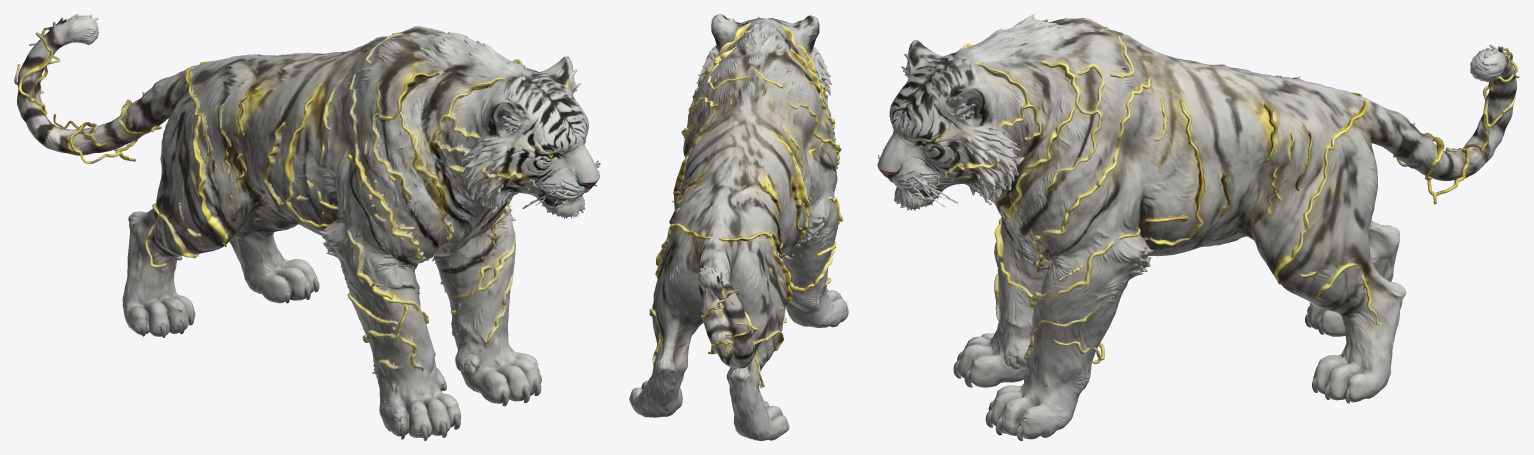
File: fulgar.glb
3 views of the same model, side by side, from view 1: azimuth 30°, elevation 25°; view 2: azimuth 150°, elevation 25°; view 3: azimuth 270°, elevation 25° (orthographic). The views are drawn at different scales.
Parts seen in each view (by area): view 1: tripo_node_02cd93fa-fcd7-498a-8c53-8ca164255a4e; view 2: tripo_node_02cd93fa-fcd7-498a-8c53-8ca164255a4e; view 3: tripo_node_02cd93fa-fcd7-498a-8c53-8ca164255a4e.
Part boxes in pixels (box(x1,y1,x2,y2)): tripo_node_02cd93fa-fcd7-498a-8c53-8ca164255a4e: box(14, 14, 600, 440); tripo_node_02cd93fa-fcd7-498a-8c53-8ca164255a4e: box(629, 14, 848, 440); tripo_node_02cd93fa-fcd7-498a-8c53-8ca164255a4e: box(877, 14, 1519, 440).
Bounding box in the file's own units: 0.576 × 0.638 × 0.9805.
1 material, 1 textured.
